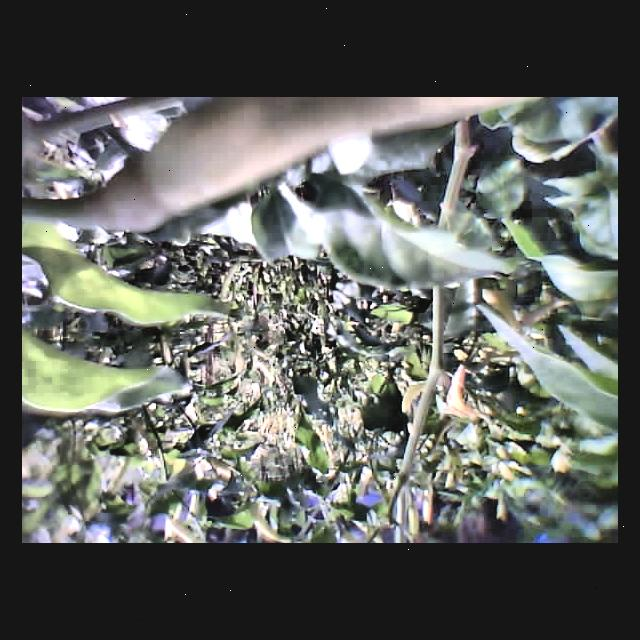Cabai: (22, 97, 545, 240)
